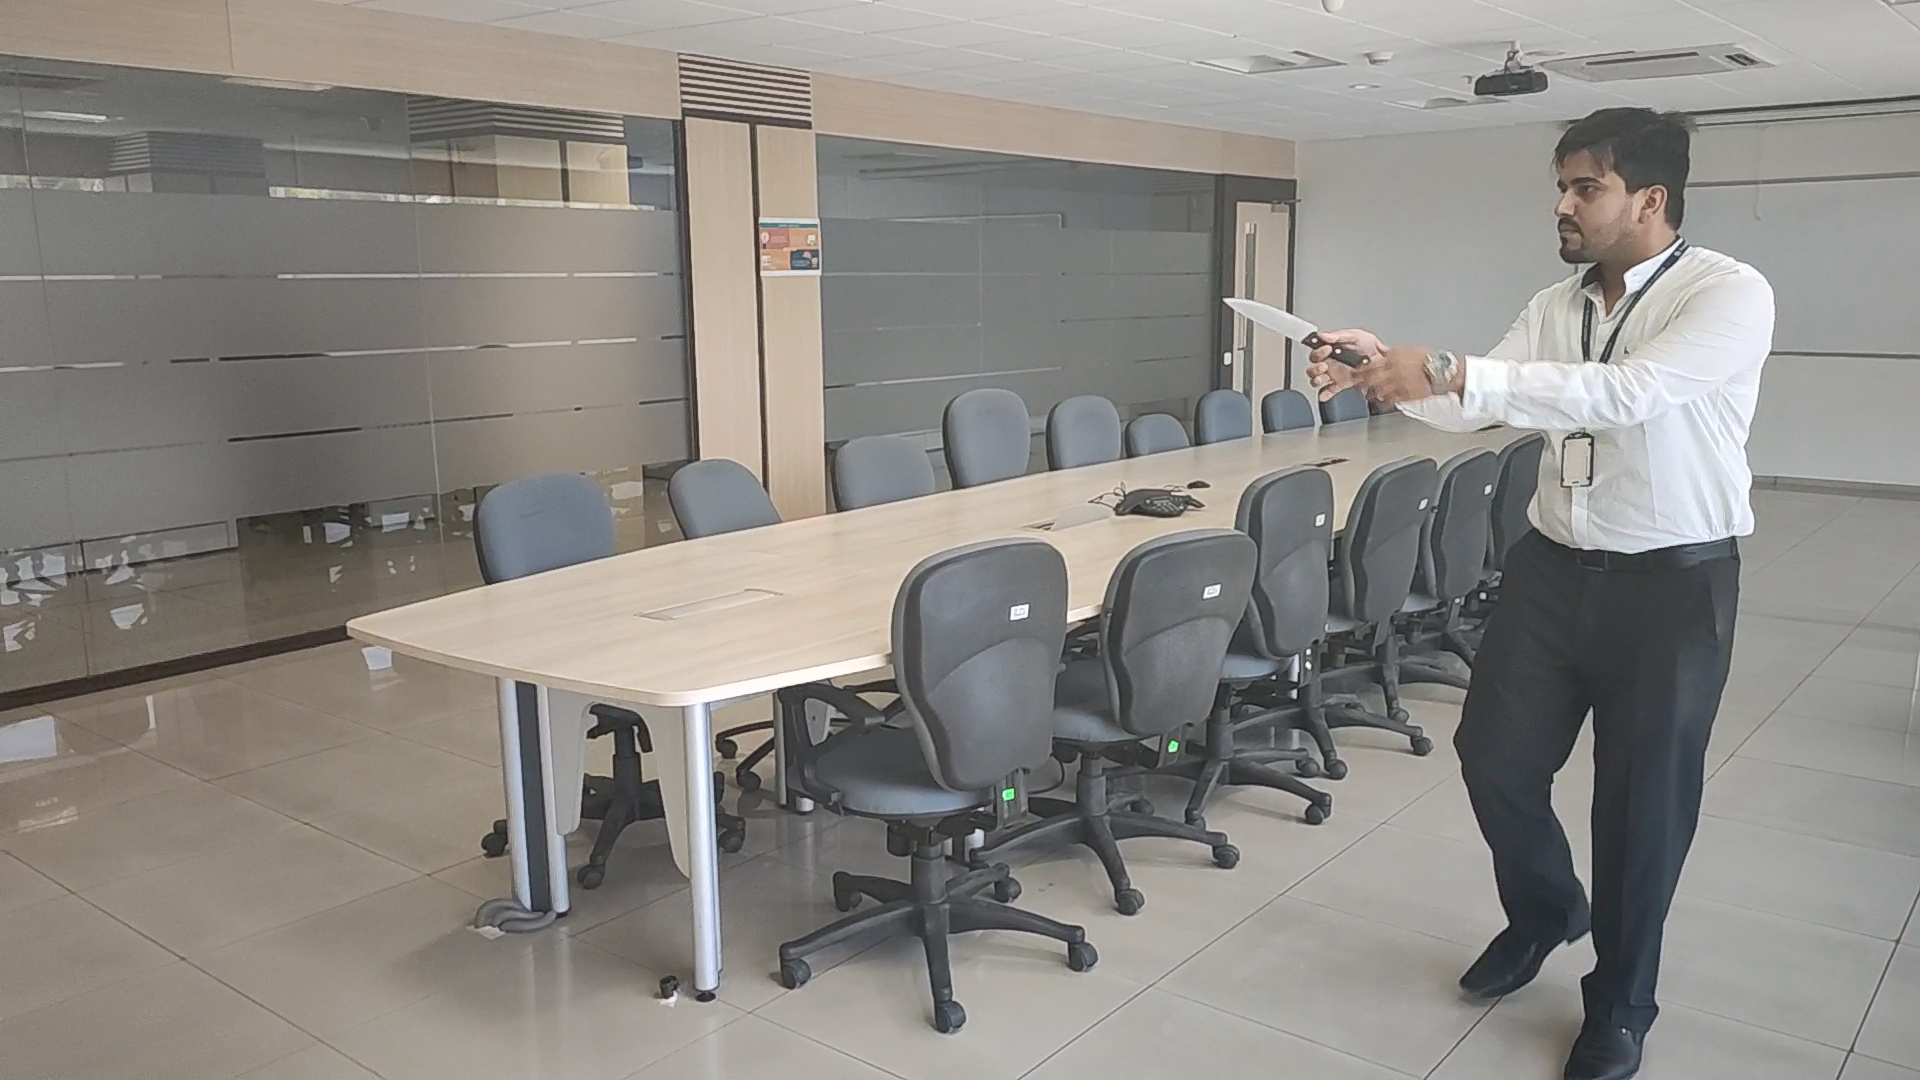knife: (1224, 291, 1329, 355)
